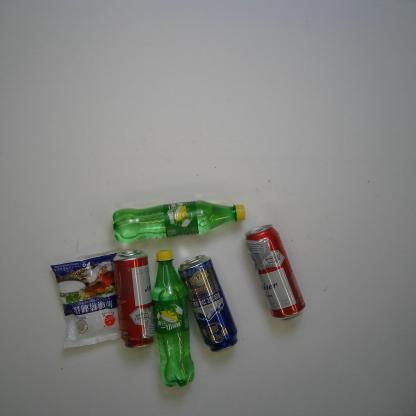Alcohol: (242, 220, 306, 323), (177, 250, 240, 354), (110, 248, 155, 349)
Drink: (150, 248, 197, 391), (109, 200, 246, 245)
Seasoner: (48, 249, 132, 352)
